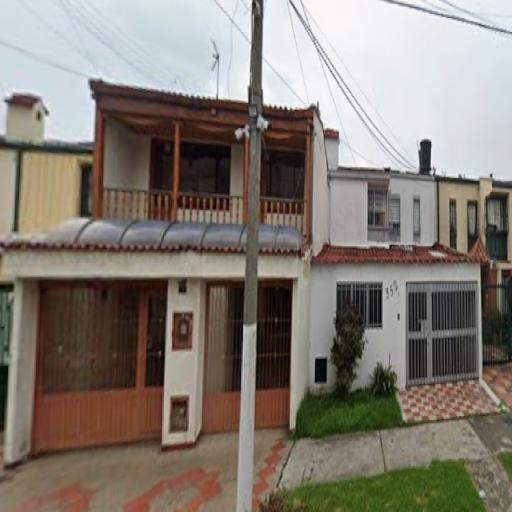poste: (233, 2, 265, 510)
